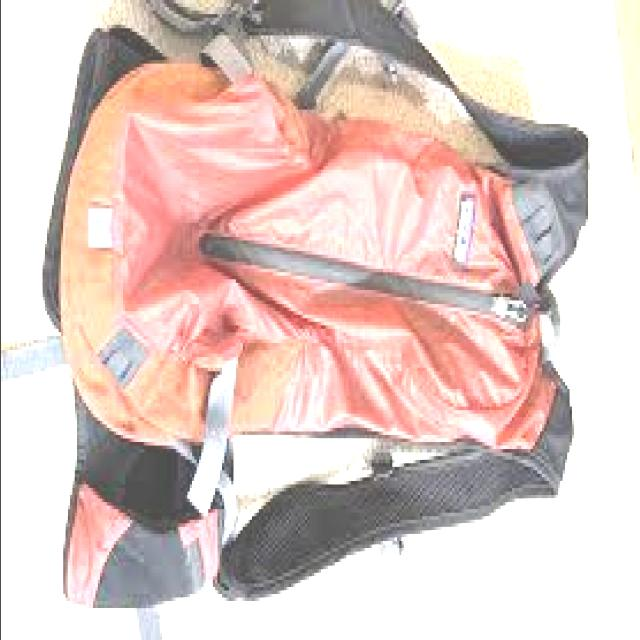backpack: (43, 2, 593, 606)
